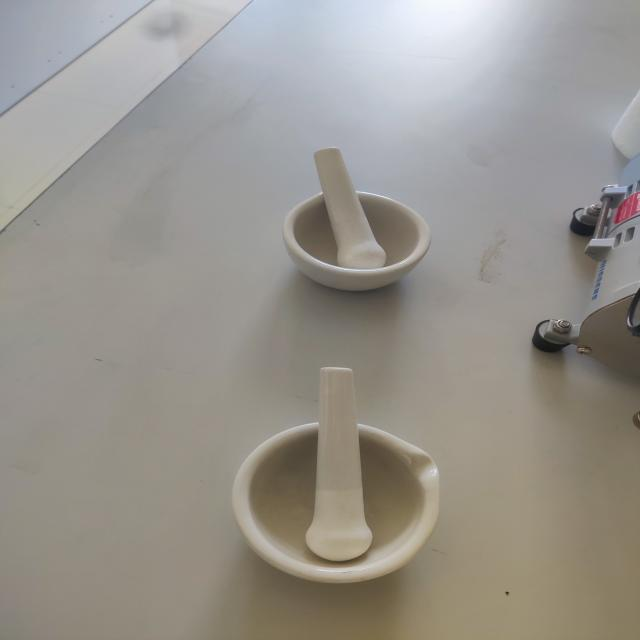Porcelain_Mortar Pestle: (197, 348, 493, 601), (240, 109, 452, 329)
